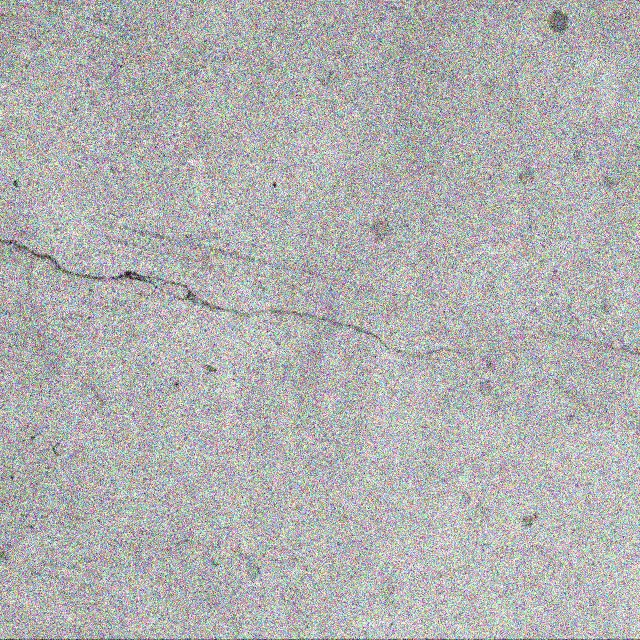SurfaceCrack: (1, 196, 640, 398)
